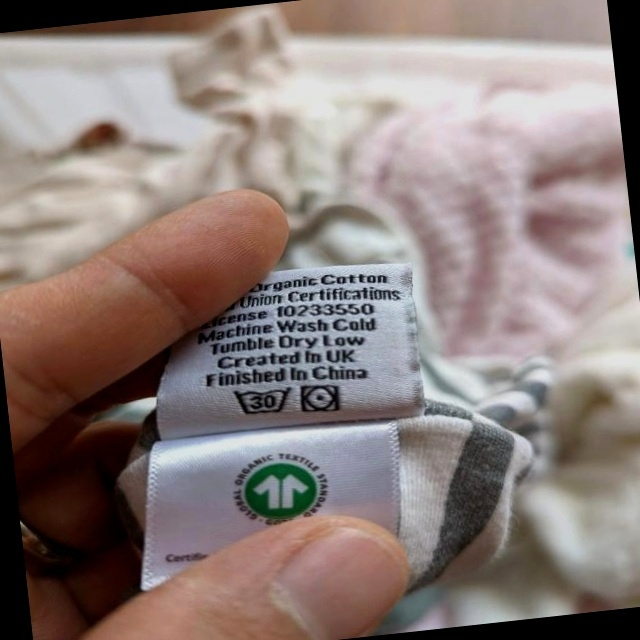30C: (228, 380, 296, 421)
tumble_dry_low: (297, 379, 344, 419)
